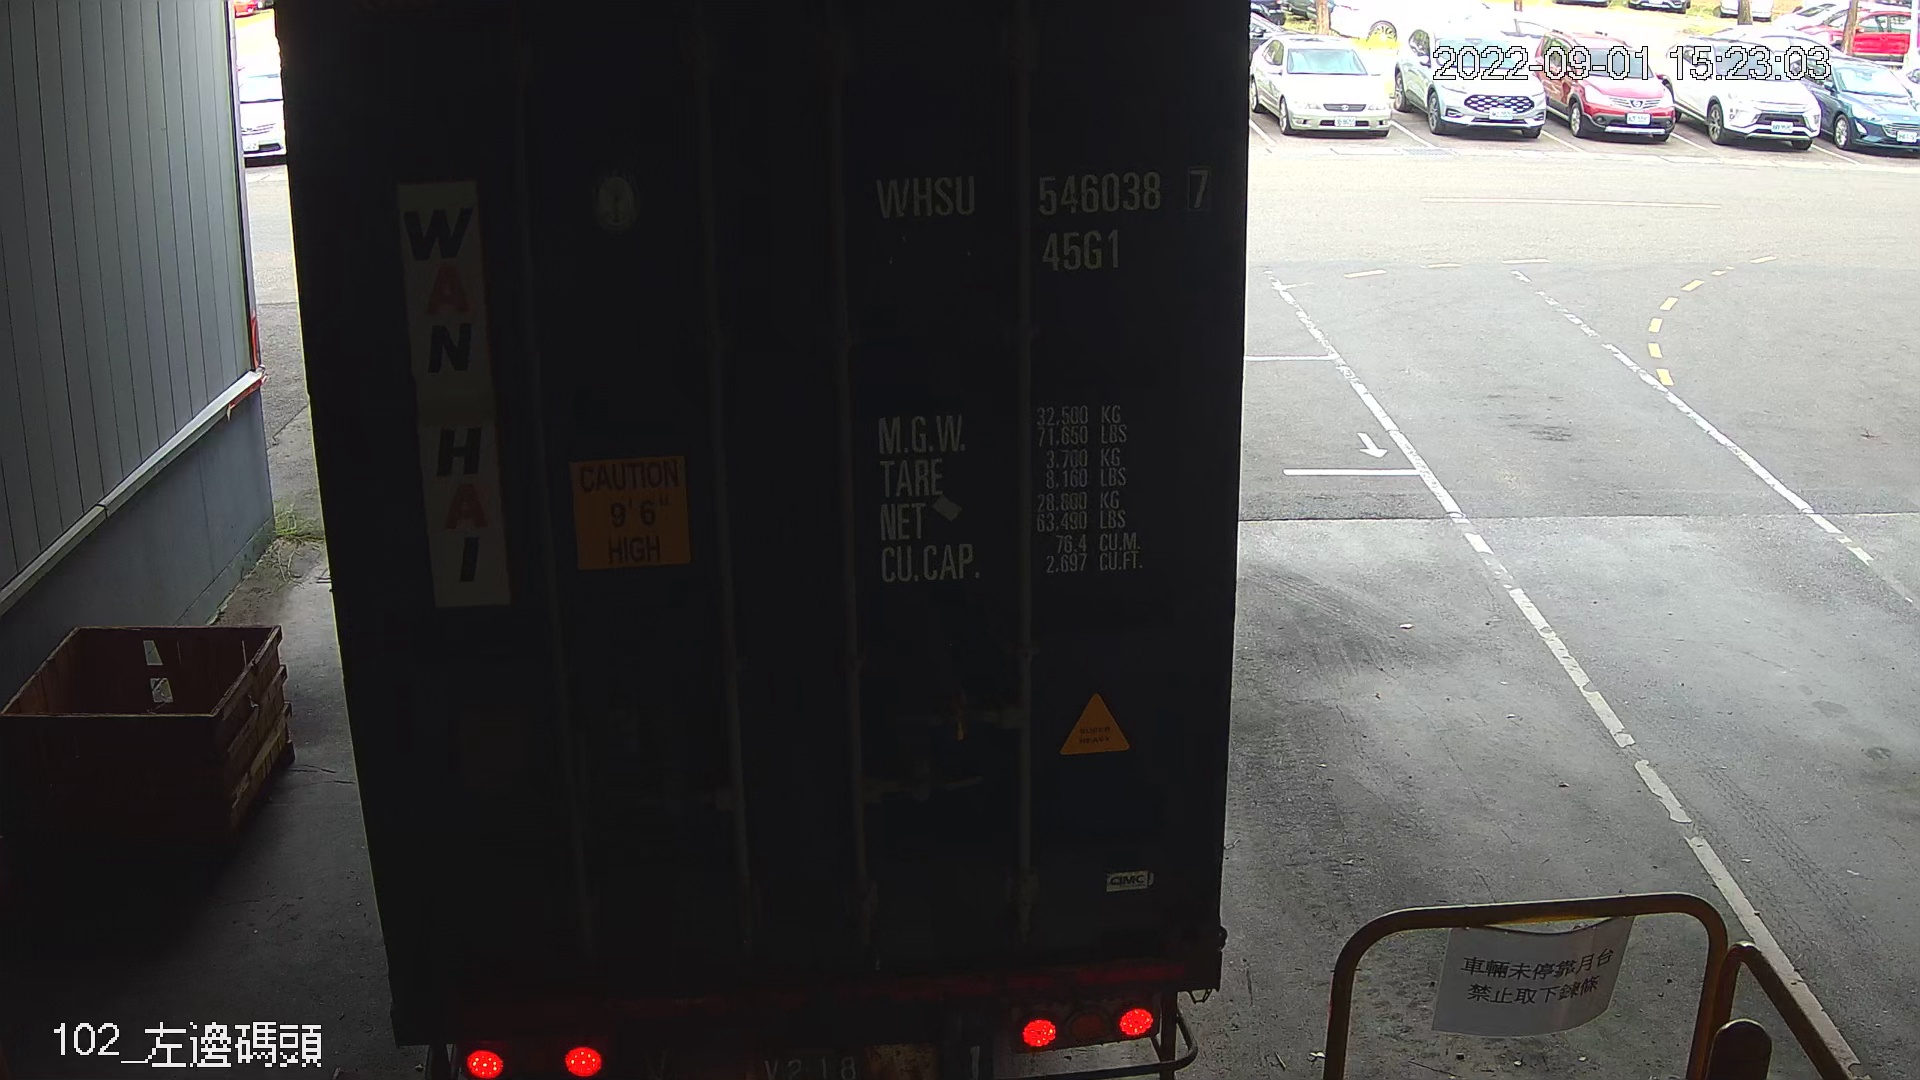container: (862, 154, 1222, 286)
